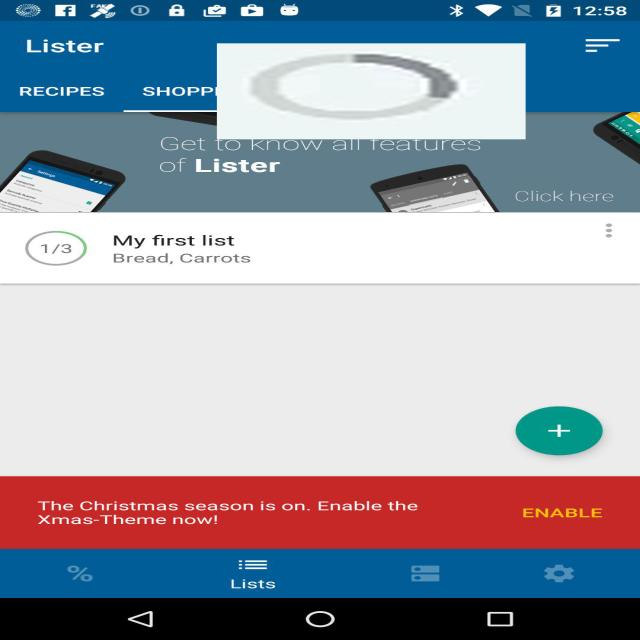misdirection: (217, 44, 526, 140)
